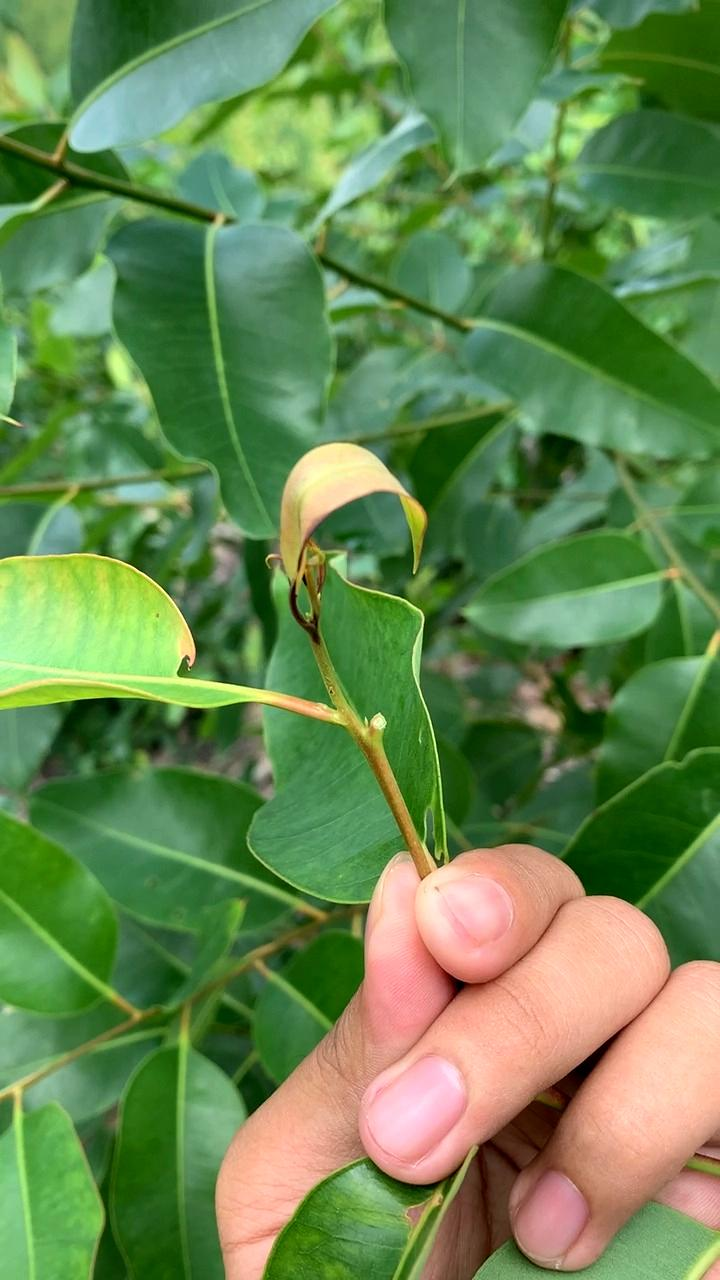Helopeltis-Withered Sprout: (248, 428, 437, 604)
